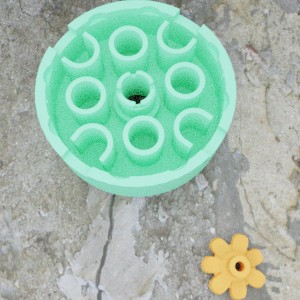lego: (34, 0, 236, 196), (201, 233, 265, 300)
